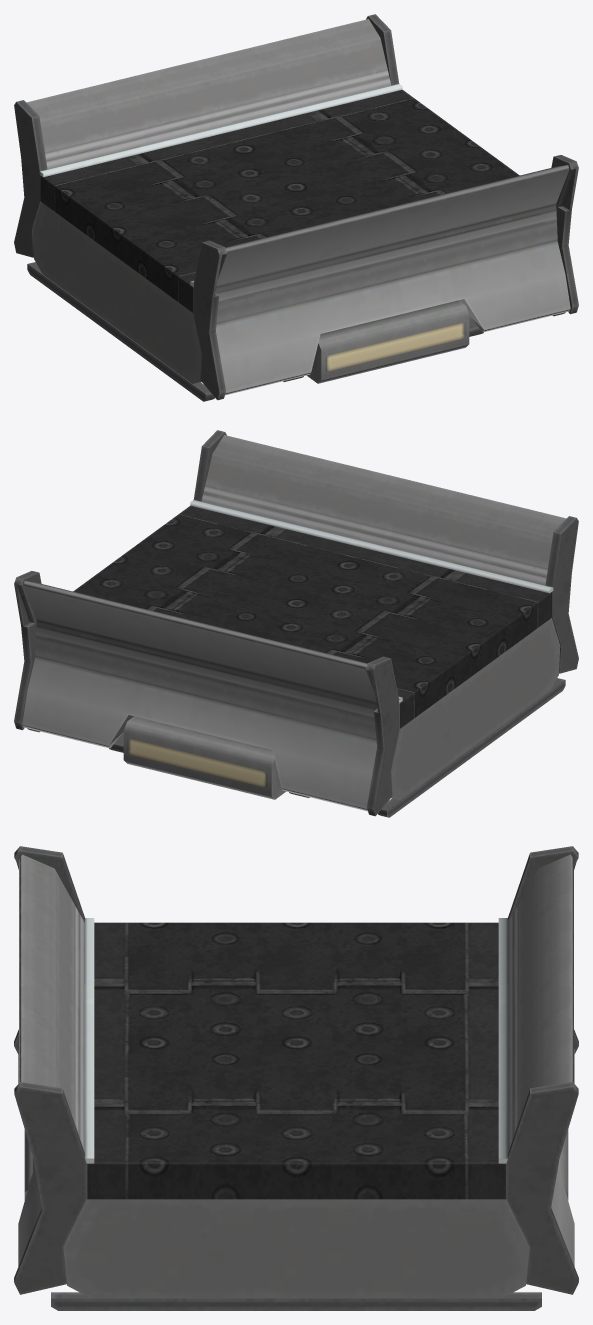
The model's file is belt-mk4.glb.
3 views of the same model, one above another, from view 1: azimuth 30°, elevation 25°; view 2: azimuth 150°, elevation 25°; view 3: azimuth 270°, elevation 25° (orthographic). The views are drawn at different scales.
Visible parts, largest first — view 1: SM_ConveyorBelt_Mk4; view 2: SM_ConveyorBelt_Mk4; view 3: SM_ConveyorBelt_Mk4.
Boxes of the visible parts, box(x1,y1,x2,y2) form: SM_ConveyorBelt_Mk4: box(14, 14, 578, 401); SM_ConveyorBelt_Mk4: box(14, 430, 578, 817); SM_ConveyorBelt_Mk4: box(14, 846, 578, 1310).
Size of the model in its own units: 2 by 0.8743 by 1.98.
Materials: 1 (1 with a texture image).
